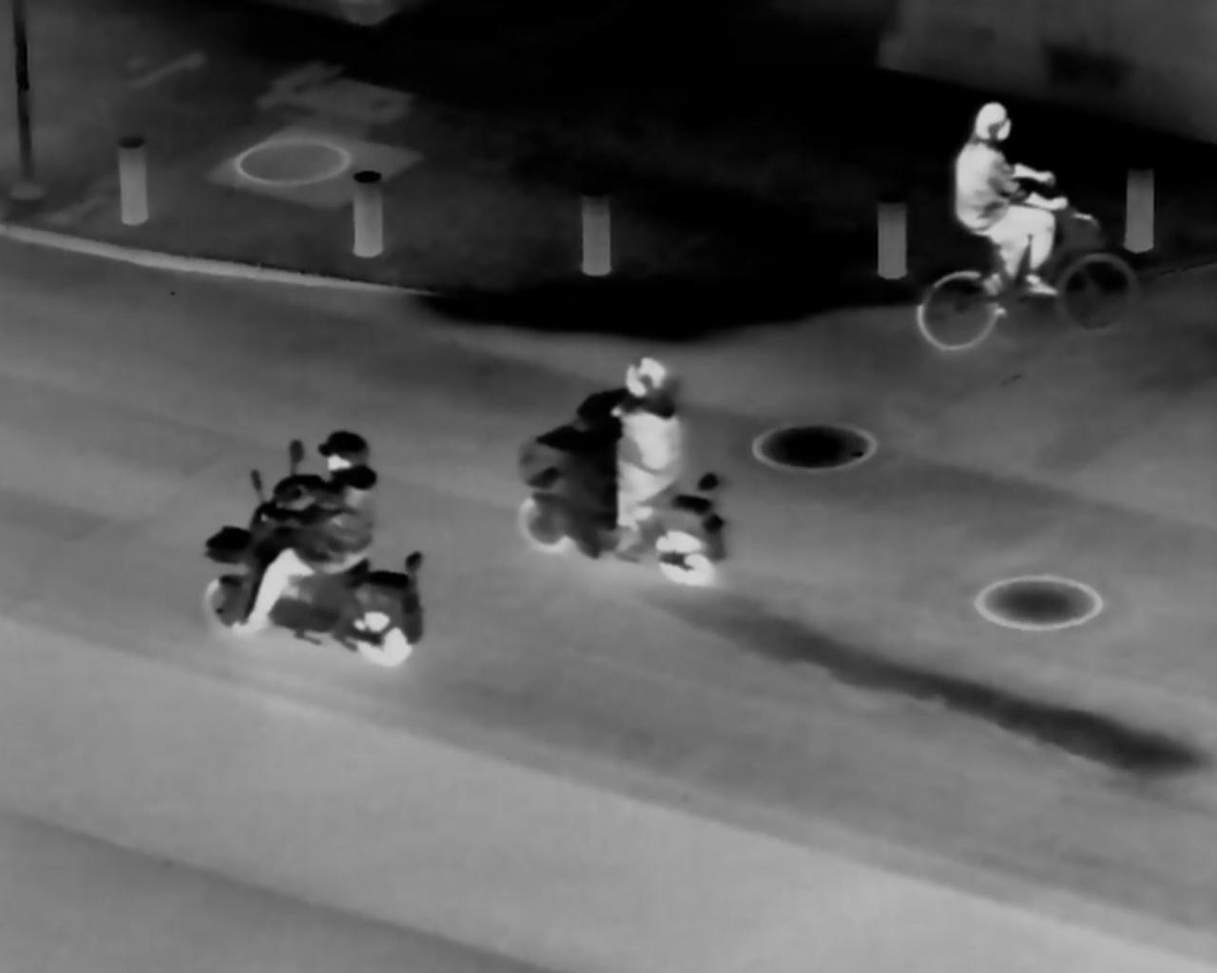person: (236, 430, 380, 636), (954, 96, 1058, 301), (598, 349, 684, 545)
